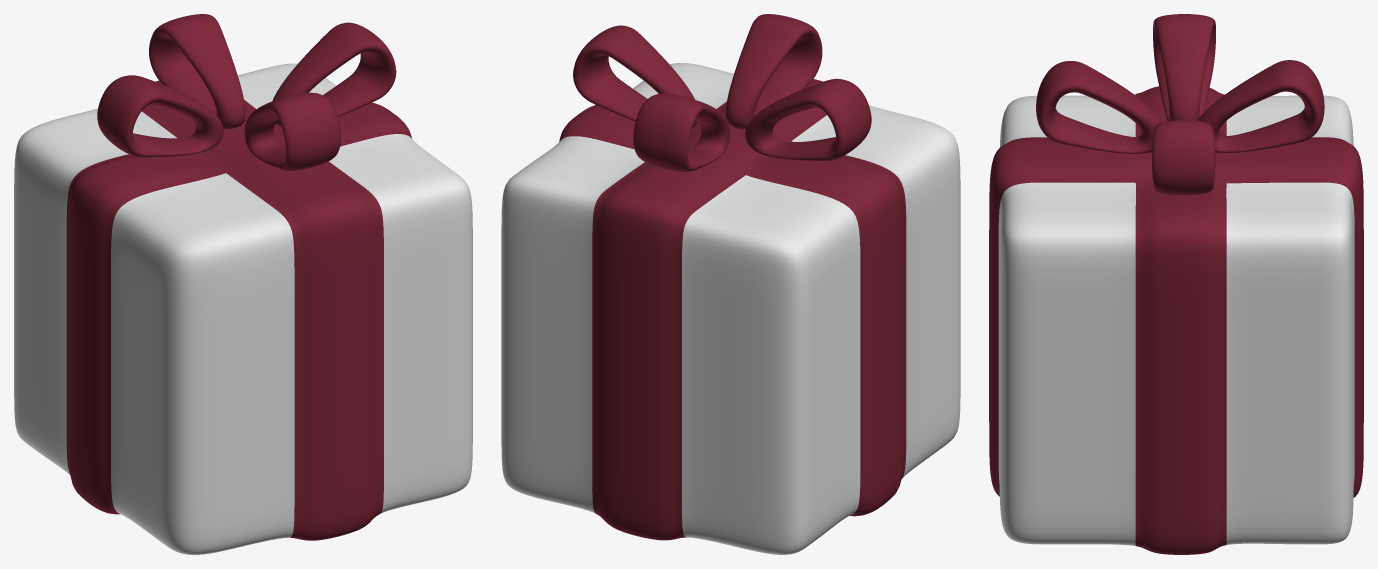
Rendered from giftSmall.fbx.
3 views of the same model, side by side, from view 1: azimuth 30°, elevation 25°; view 2: azimuth 150°, elevation 25°; view 3: azimuth 270°, elevation 25° (orthographic).
Visible parts, largest first — view 1: giftSmall; view 2: giftSmall; view 3: giftSmall.
Boxes of the visible parts, x1,y1,x2,y2 form: giftSmall: (14,14,472,554); giftSmall: (501,14,960,554); giftSmall: (989,14,1363,554).
Bounding box in the file's own units: 0.217 × 0.2719 × 0.219.
